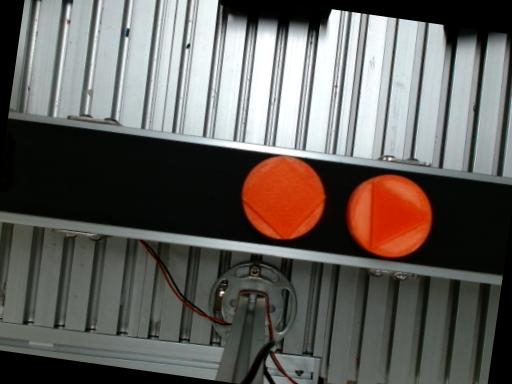Not_Square: (370, 177, 432, 252)
Orange_Waper: (345, 173, 433, 257), (241, 156, 326, 239)
Square: (238, 156, 328, 240)
